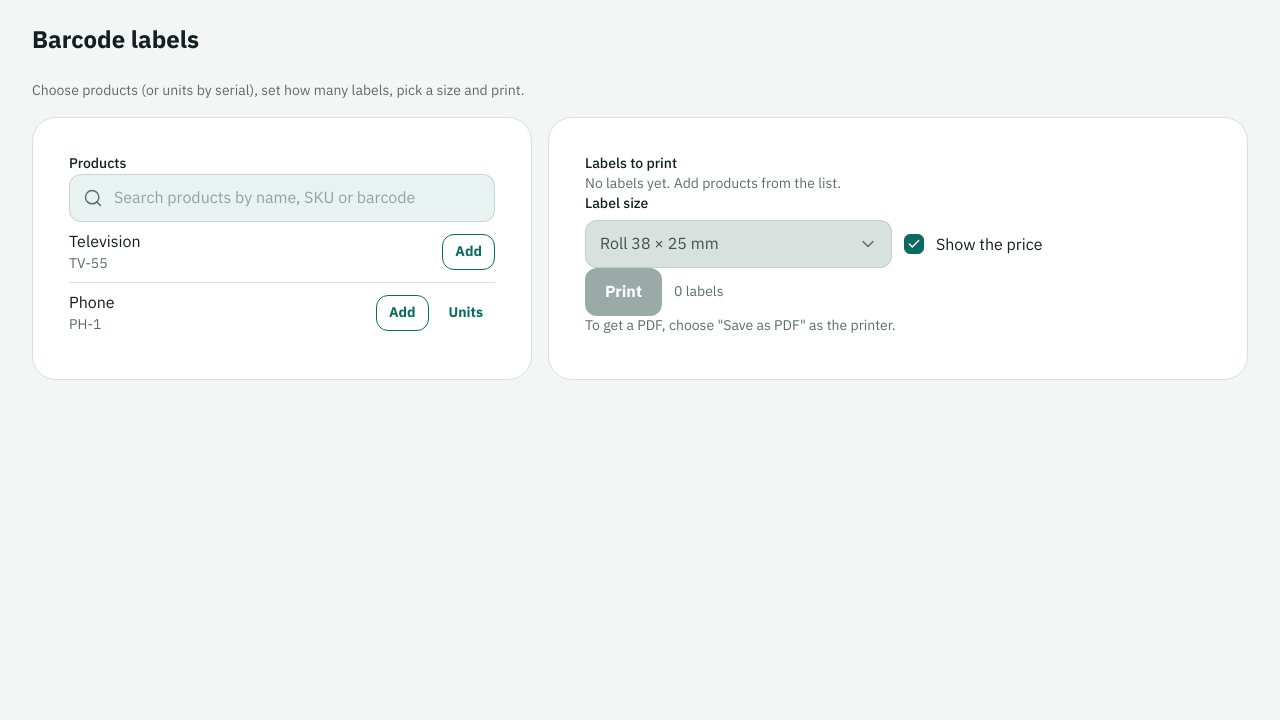
Test: C03 labels page › shows a message when the product has no units
Click the button "Units". click: (466, 313)
box: [436, 295, 495, 331]
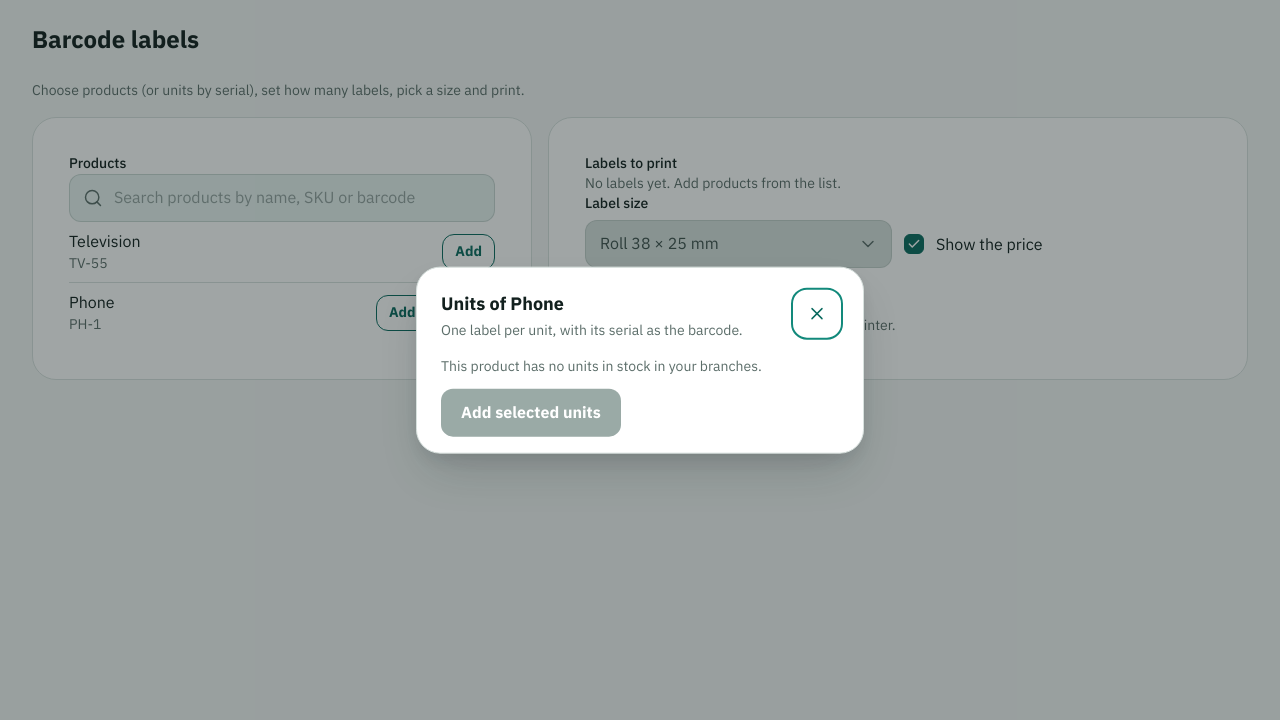
Now the text "This product has no units in stock in your branches." is shown, box [441, 355, 762, 376]
